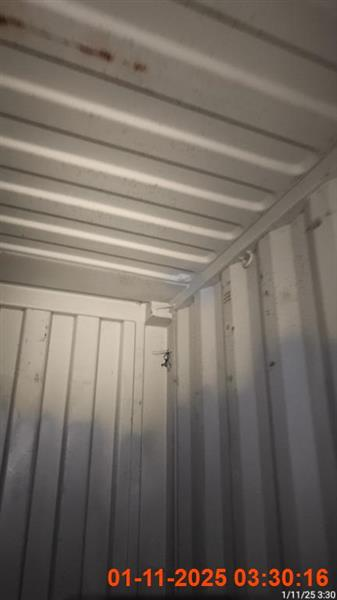broken: (34, 60, 304, 540)
